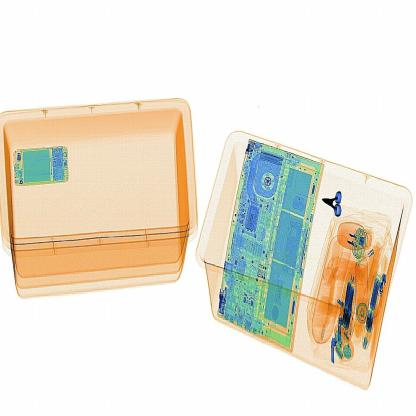gun: (319, 186, 345, 216)
